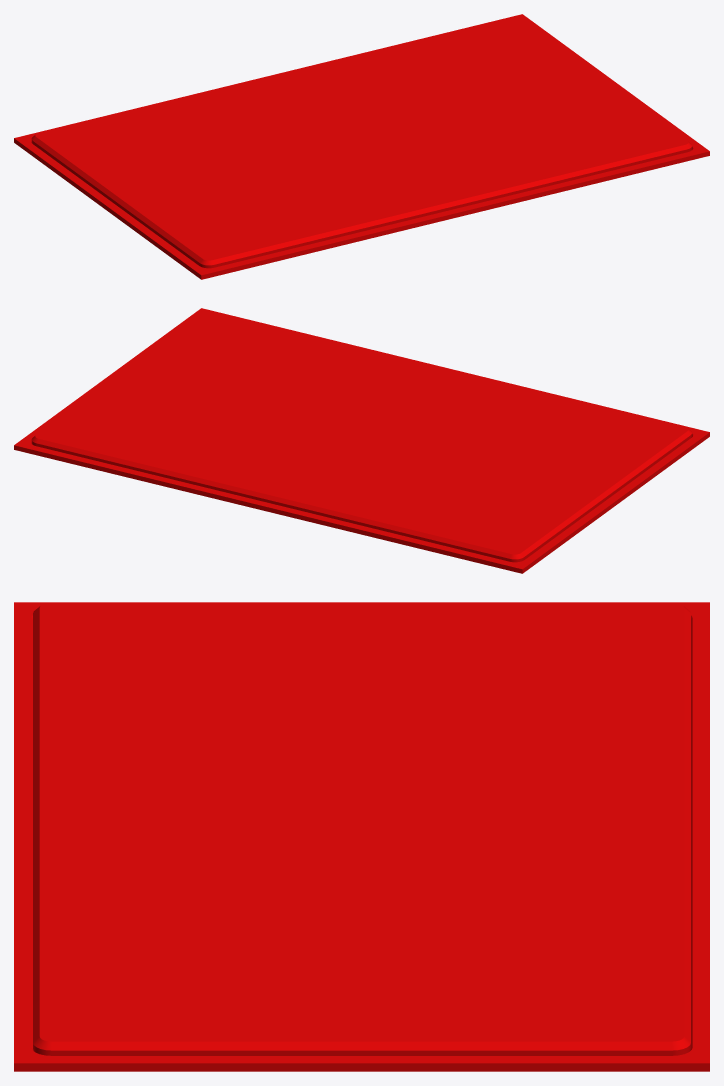
File: Floor_9.fbx
3 views of the same model, one above another, from view 1: azimuth 30°, elevation 25°; view 2: azimuth 150°, elevation 25°; view 3: azimuth 270°, elevation 25° (orthographic). The views are drawn at different scales.
Parts seen in each view (by area): view 1: L21:pCube178; view 2: L21:pCube178; view 3: L21:pCube178.
Part boxes in pixels (box(x1,y1,x2,y2)): L21:pCube178: box(14, 14, 709, 279); L21:pCube178: box(14, 308, 709, 573); L21:pCube178: box(14, 602, 709, 1071).
Bounding box in the file's own units: 1177 × 22.75 × 752.
